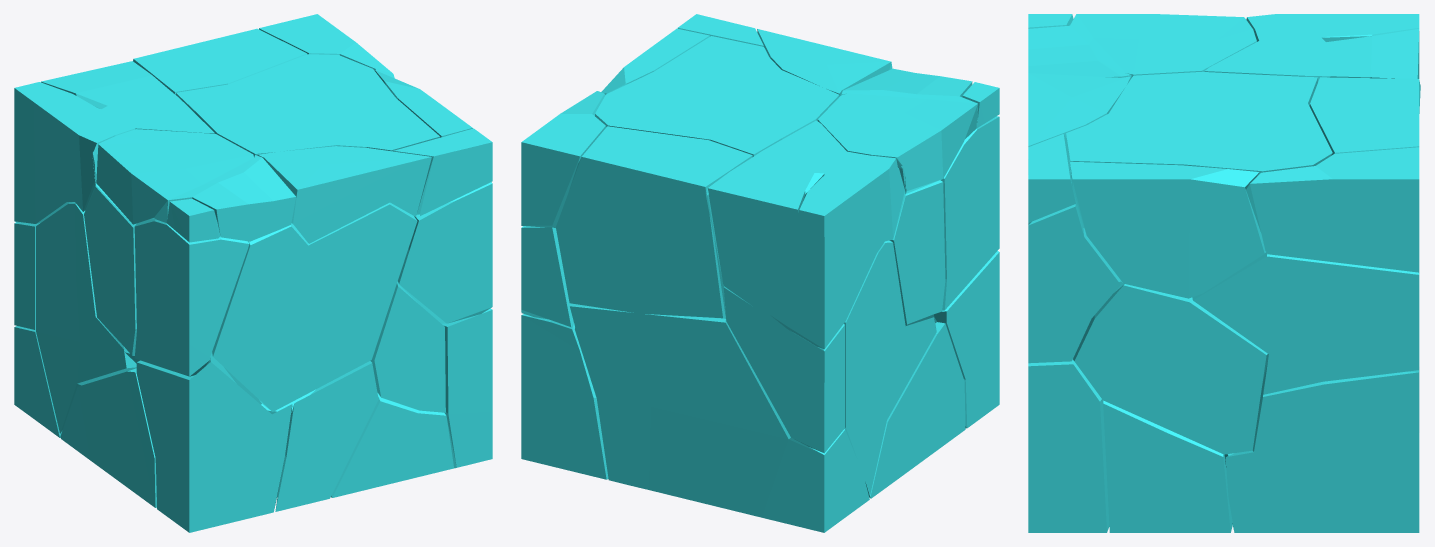
The model's file is ARID_Base.fbx.
3 renders of one model, left to right at view 1: azimuth 30°, elevation 25°; view 2: azimuth 150°, elevation 25°; view 3: azimuth 270°, elevation 25°, orthographic. The views are drawn at different scales.
Parts seen in each view (by area): view 1: BSurfaceMesh; view 2: BSurfaceMesh; view 3: BSurfaceMesh.
Boxes of the visible parts, x1,y1,x2,y2 form: BSurfaceMesh: [14, 14, 492, 532]; BSurfaceMesh: [521, 14, 999, 532]; BSurfaceMesh: [1028, 14, 1420, 532].
Bounding box in the file's own units: 200 × 201 × 201.
